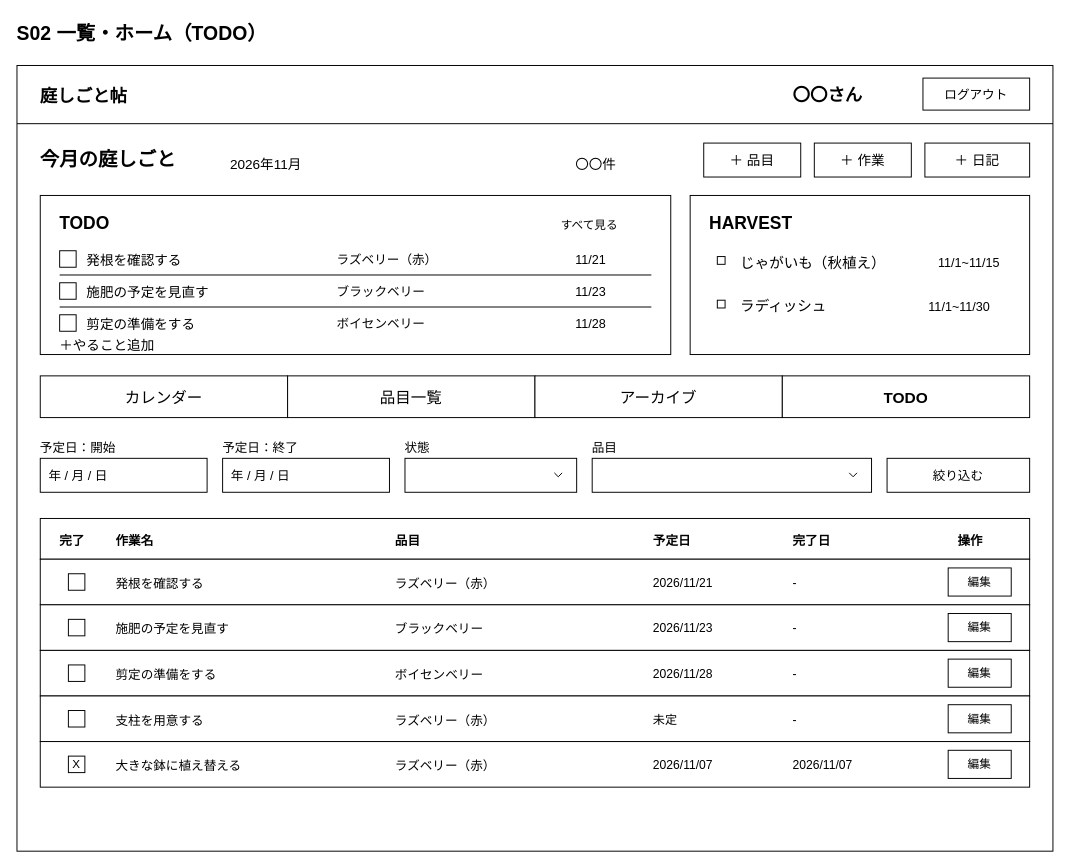
Some shapes in this 1071 by 868 pixel diagram are drawn without their labels. The centre of each missing label's shape, as x and y in pixels:
"すべて" goes at pixel 490 474.
"すべての品目" goes at pixel 731 474.
